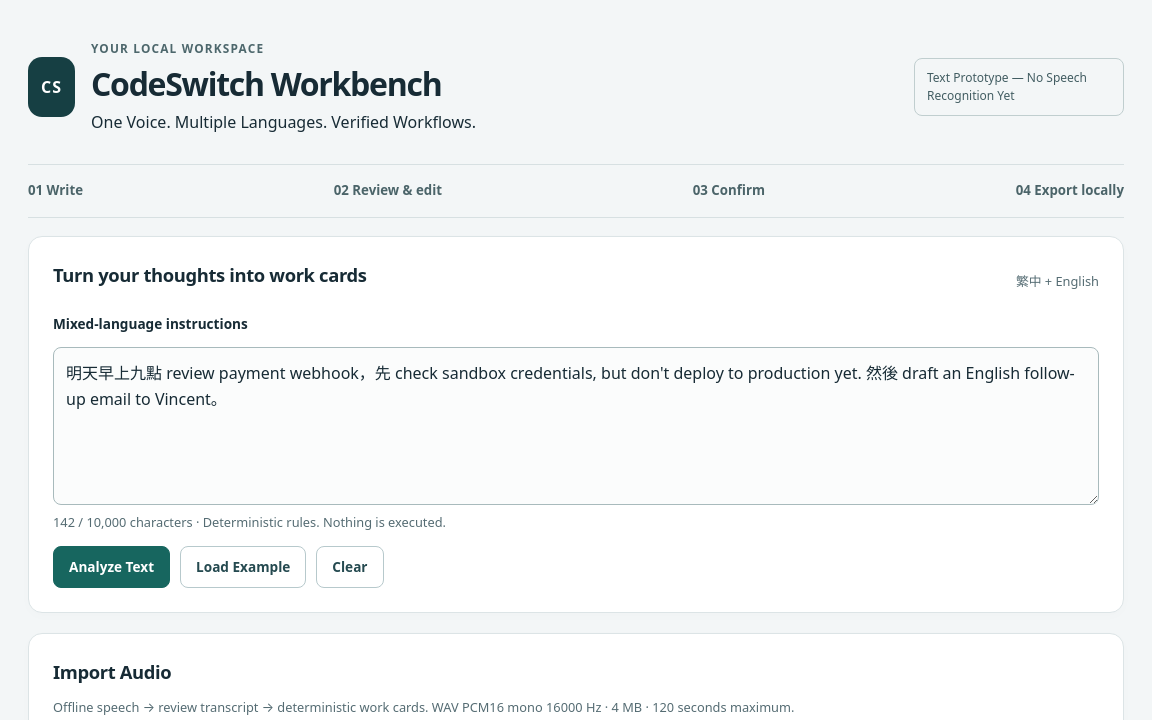
Test: reports save failure without claiming success
Click the button "Analyze Text" at (112, 567), box [53,546,170,588]
(page scrolled)
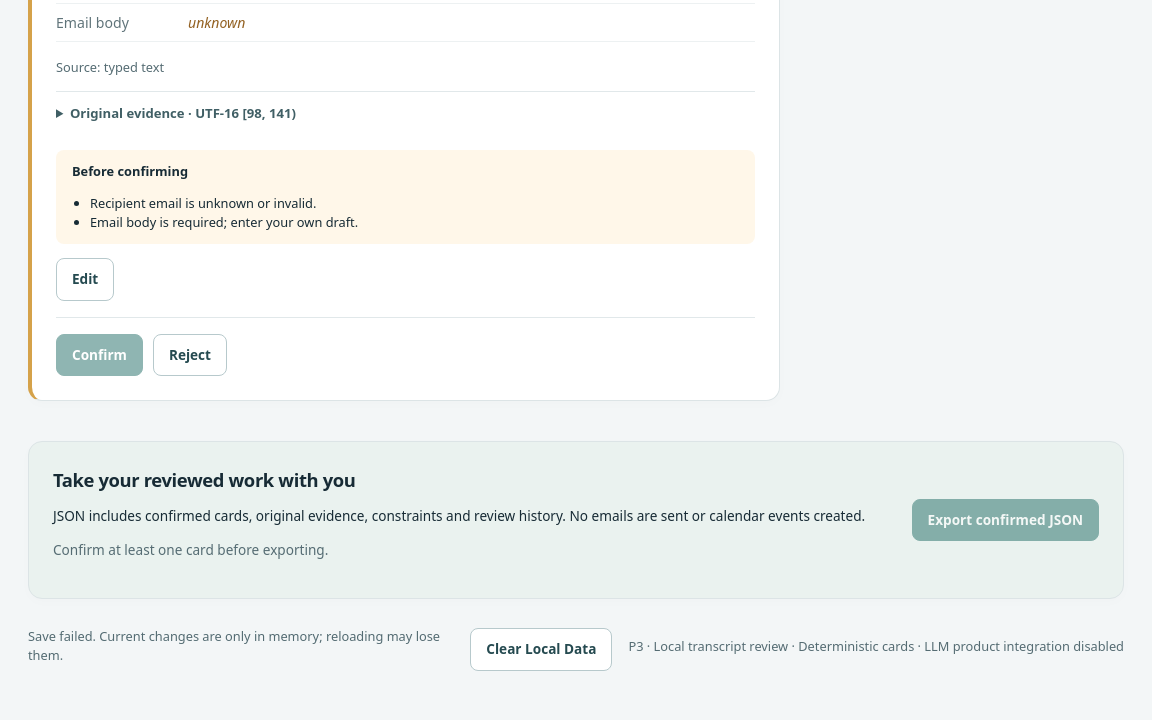
Expected: the text "Save failed. Current changes are only in memory; reloading may lose them." is shown, [28,627,454,666]
